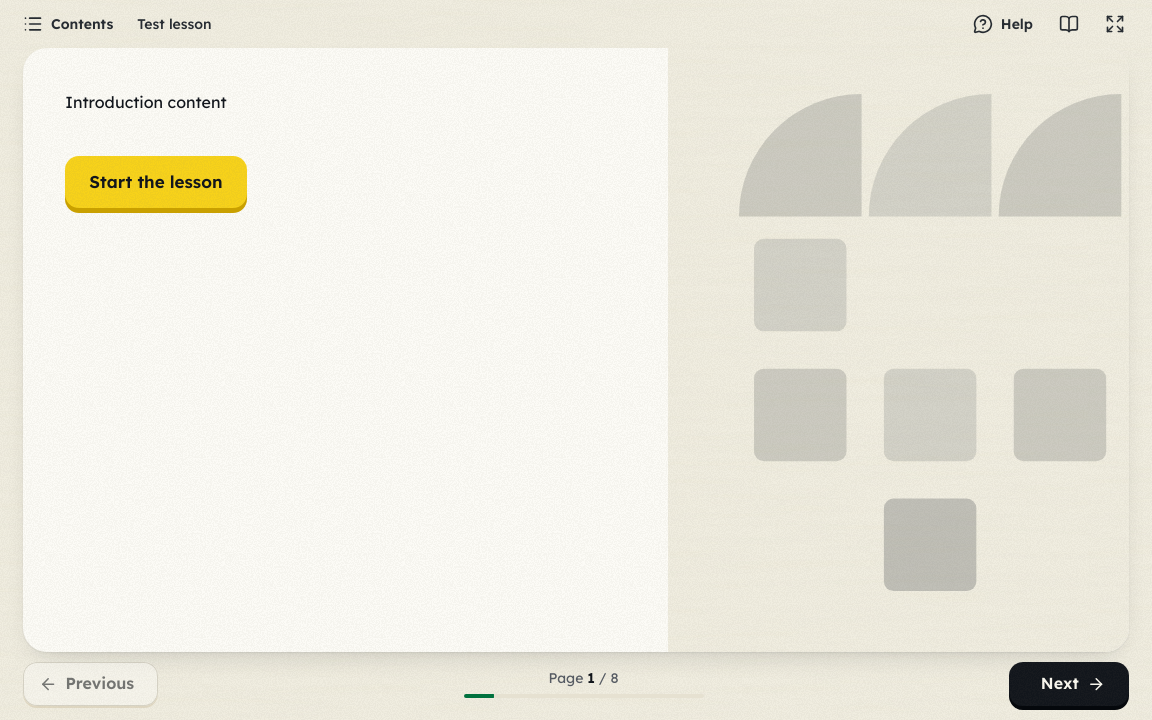
Test: puts whole goals on cards, at most four a slide, without losing one
The image size is (1152, 720).
Step 1. Click the button "Next" → x=1069, y=684, box [1009,662,1129,706]
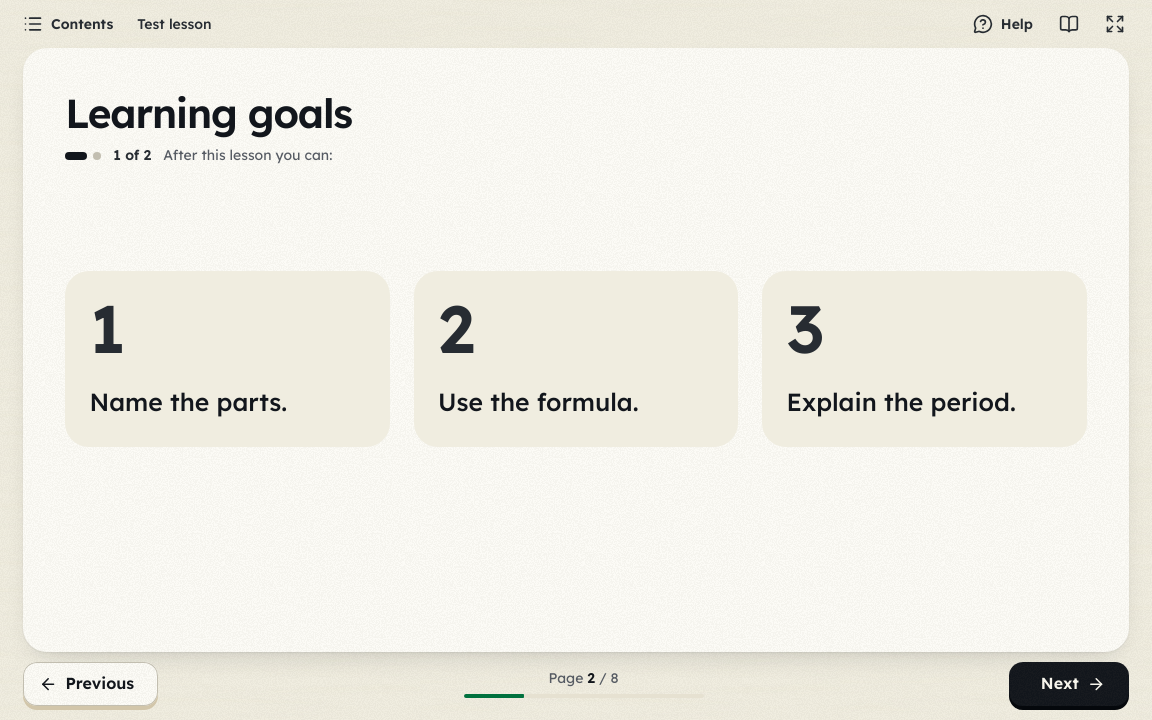
Check: the heading reads "Learning goals", box [65,88,352,138]
Step 2. Click the button "Next" → x=1069, y=684, box [1009,662,1129,706]
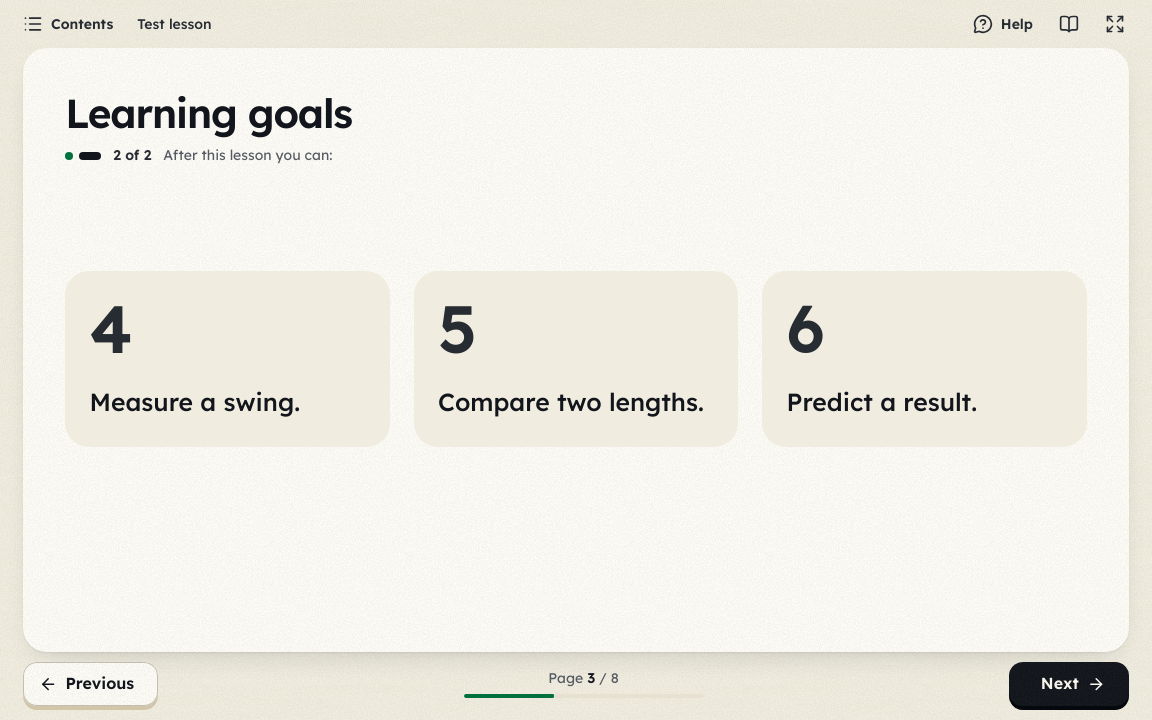
Step 3. Click the button "Next" → x=1069, y=684, box [1009,662,1129,706]
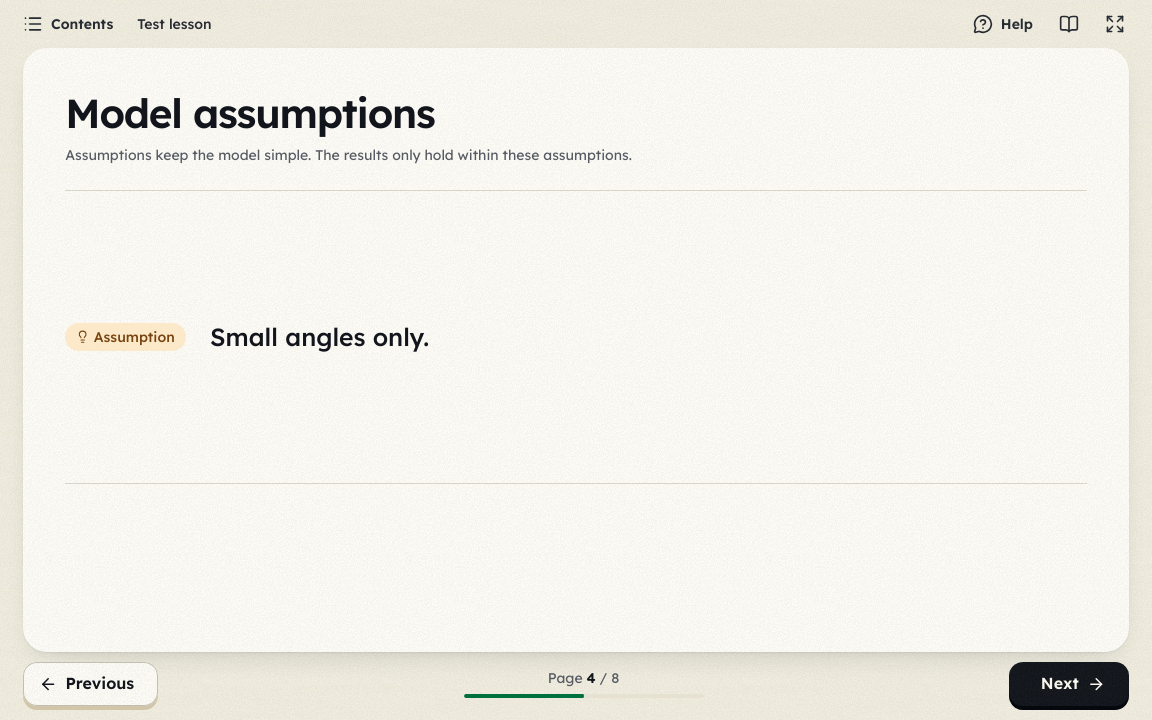
Check: the list item with class "deck-assumption" shows "Small angles only.", box [210,321,429,352]
Step 4. Click the button "Contents" → x=68, y=24, box [11,2,125,46]
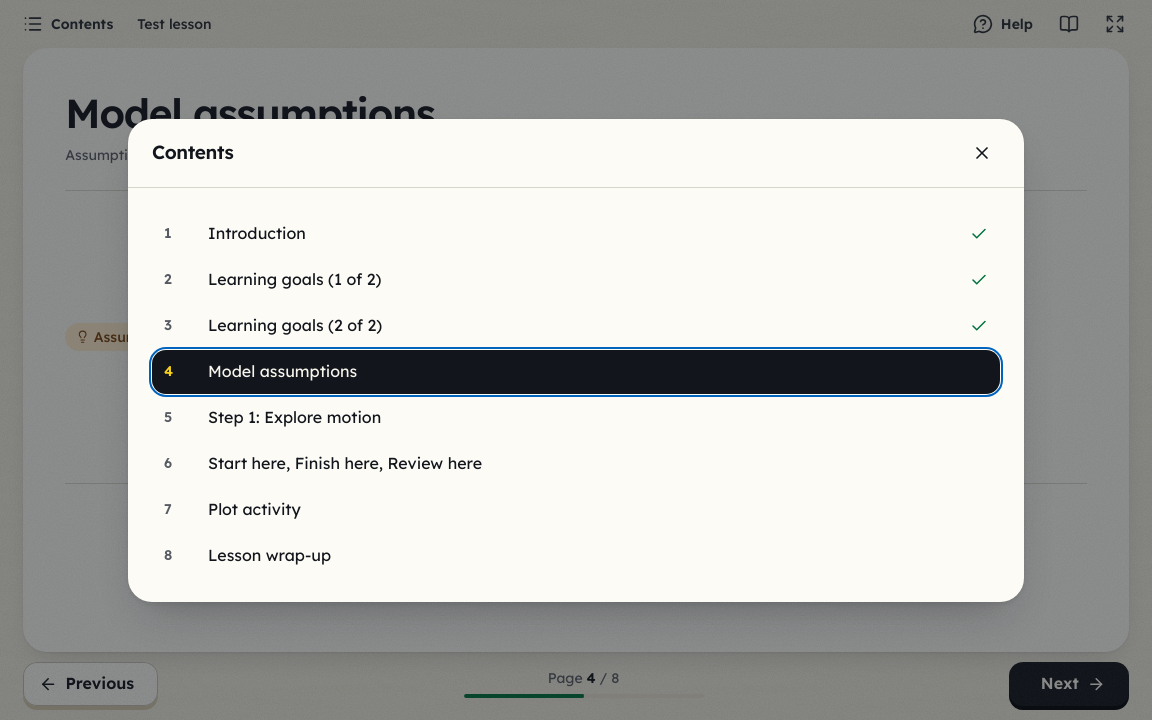
Check: the button "2 Learning goals (1 of 2)" is shown, box [152,258,1000,302]
Check: the button "3 Learning goals (2 of 2)" is shown, box [152,304,1000,348]
